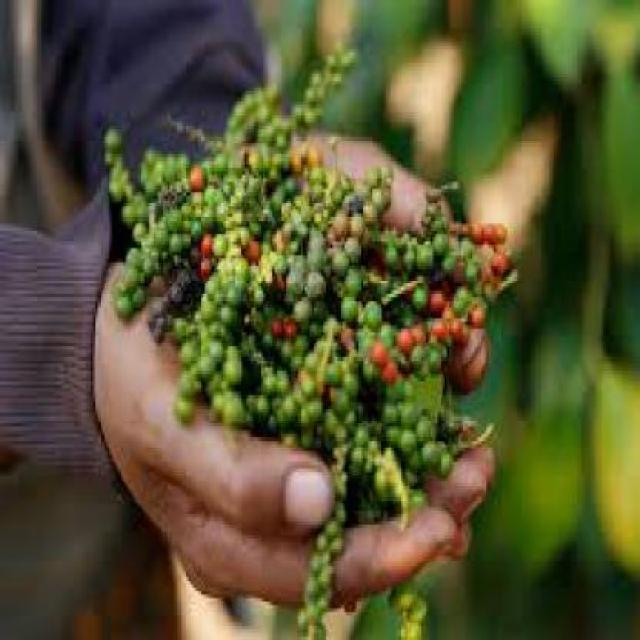RIPE: (445, 214, 514, 332)
UNRIPE: (95, 134, 191, 298)
